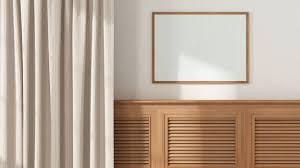curtain: (1, 1, 115, 168)
